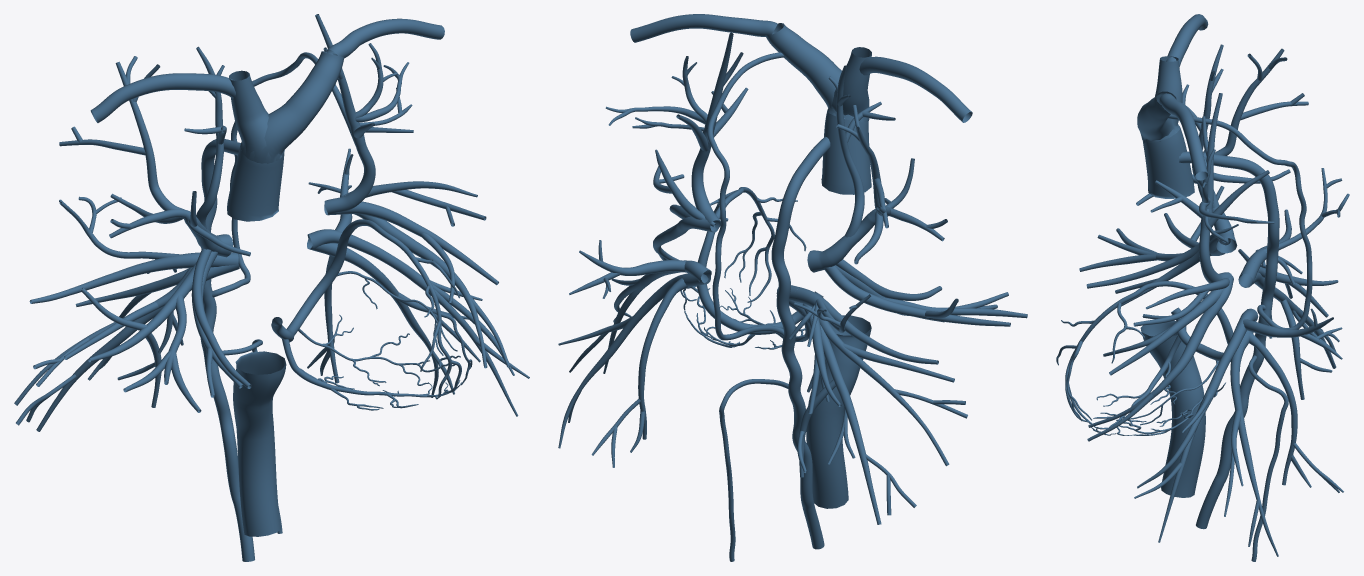
The model's file is thorax-veins-balanced.glb.
3 views of the same model, side by side, from view 1: azimuth 30°, elevation 25°; view 2: azimuth 150°, elevation 25°; view 3: azimuth 270°, elevation 25° (orthographic). The views are drawn at different scales.
Parts seen in each view (by area): view 1: za.inferior-vena-cava-thoracic-part, za.azygos-vein, za.apicoposterior-vein-of-left-lung, za.left-brachiocephalic-vein, za.superior-vein-of-left-lung, za.lateral-vein-of-right-lung, za.posterior-vein-of-right-lung, za.superior-vena-cava, za.superior-basal-vein-of-right-lung, za.superior-vein-of-right-lung, za.inferior-basal-vein-of-right-lung, za.great-cardiac-vein (+18 smaller); view 2: za.azygos-vein, za.inferior-vena-cava-thoracic-part, za.apicoposterior-vein-of-left-lung, za.superior-basal-vein-of-right-lung, za.inferior-basal-vein-of-right-lung, za.lateral-vein-of-right-lung, za.left-brachiocephalic-vein, za.superior-vena-cava, za.superior-vein-of-left-lung, za.accessory-hemi-azygos-vein, za.left-subclavian-vein, za.superior-basal-vein-of-left-lung (+14 smaller); view 3: za.azygos-vein, za.inferior-vena-cava-thoracic-part, za.superior-vein-of-left-lung, za.apicoposterior-vein-of-left-lung, za.superior-vena-cava, za.superior-basal-vein-of-left-lung, za.great-cardiac-vein, za.accessory-hemi-azygos-vein, za.posterior-vein-of-right-lung, za.lateral-vein-of-right-lung, za.inferior-lingular-vein-of-left-lung, za.medial-vein-of-right-lung (+18 smaller).
Part boxes in pixels (x1,y1,x2,y2): za.inferior-vena-cava-thoracic-part: (233, 351, 286, 536); za.azygos-vein: (200, 139, 254, 561); za.apicoposterior-vein-of-left-lung: (315, 14, 413, 206); za.left-brachiocephalic-vein: (240, 51, 344, 163); za.superior-vein-of-left-lung: (308, 148, 529, 416); za.lateral-vein-of-right-lung: (80, 262, 201, 412); za.posterior-vein-of-right-lung: (59, 56, 187, 238); za.superior-vena-cava: (227, 144, 284, 221); za.superior-basal-vein-of-right-lung: (14, 267, 192, 405); za.superior-vein-of-right-lung: (29, 196, 192, 303); za.inferior-basal-vein-of-right-lung: (16, 289, 191, 431); za.great-cardiac-vein: (330, 219, 472, 397); za.azygos-vein: (771, 136, 830, 549); za.inferior-vena-cava-thoracic-part: (806, 315, 871, 508); za.apicoposterior-vein-of-left-lung: (605, 32, 748, 208); za.superior-basal-vein-of-right-lung: (795, 287, 967, 466); za.inferior-basal-vein-of-right-lung: (797, 311, 916, 524); za.lateral-vein-of-right-lung: (824, 266, 1027, 326); za.left-brachiocephalic-vein: (765, 23, 869, 122); za.superior-vena-cava: (821, 111, 871, 194); za.superior-vein-of-left-lung: (569, 240, 686, 373); za.accessory-hemi-azygos-vein: (707, 52, 784, 340); za.left-subclavian-vein: (630, 14, 777, 42); za.superior-basal-vein-of-left-lung: (558, 274, 688, 448); za.azygos-vein: (1179, 151, 1279, 529); za.inferior-vena-cava-thoracic-part: (1140, 320, 1205, 497); za.superior-vein-of-left-lung: (1134, 308, 1342, 542); za.apicoposterior-vein-of-left-lung: (1150, 93, 1274, 283); za.superior-vena-cava: (1143, 126, 1194, 198); za.superior-basal-vein-of-left-lung: (1224, 331, 1278, 556); za.great-cardiac-vein: (1056, 281, 1233, 423); za.accessory-hemi-azygos-vein: (1167, 114, 1312, 329); za.posterior-vein-of-right-lung: (1203, 48, 1308, 183); za.lateral-vein-of-right-lung: (1079, 186, 1230, 271); za.inferior-lingular-vein-of-left-lung: (1087, 305, 1219, 441); za.medial-vein-of-right-lung: (1086, 234, 1230, 306).
Bounding box in the file's own units: 0.233 × 0.2728 × 0.1522.
